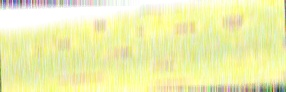Bacterial_Leaf_Blight: (215, 14, 260, 29), (51, 71, 112, 82), (145, 78, 200, 90), (101, 45, 136, 60), (85, 17, 113, 35), (147, 59, 183, 71), (171, 22, 204, 33), (130, 20, 149, 39), (56, 40, 79, 50), (166, 48, 181, 62), (28, 44, 44, 56), (3, 85, 29, 92), (230, 35, 248, 44), (152, 13, 164, 25), (275, 35, 285, 47), (249, 48, 262, 57), (235, 56, 247, 65), (278, 71, 286, 82), (278, 17, 285, 29), (268, 0, 276, 4)
